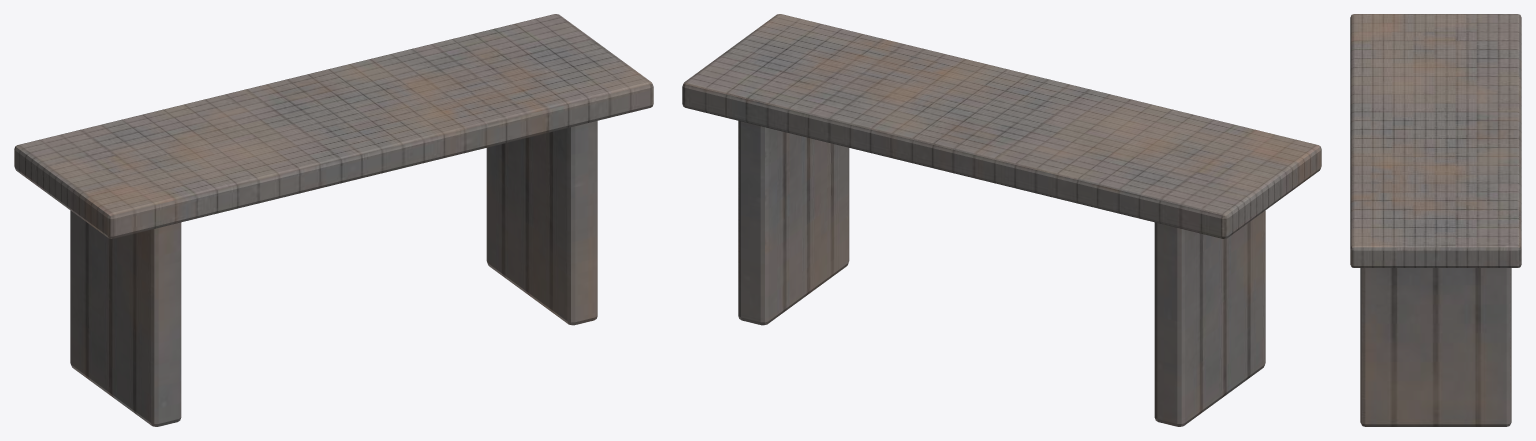
File: bench.glb
3 views of the same model, side by side, from view 1: azimuth 30°, elevation 25°; view 2: azimuth 150°, elevation 25°; view 3: azimuth 270°, elevation 25° (orthographic). The views are drawn at different scales.
Visible parts, largest first — view 1: bench; view 2: bench; view 3: bench.
Part boxes in pixels (x1,y1,x2,y2): bench: (14,14,653,426); bench: (682,14,1321,426); bench: (1350,14,1521,426).
Bounding box in the file's own units: 1.1 × 0.445 × 0.34.
Materials: 1 (1 with a texture image).
